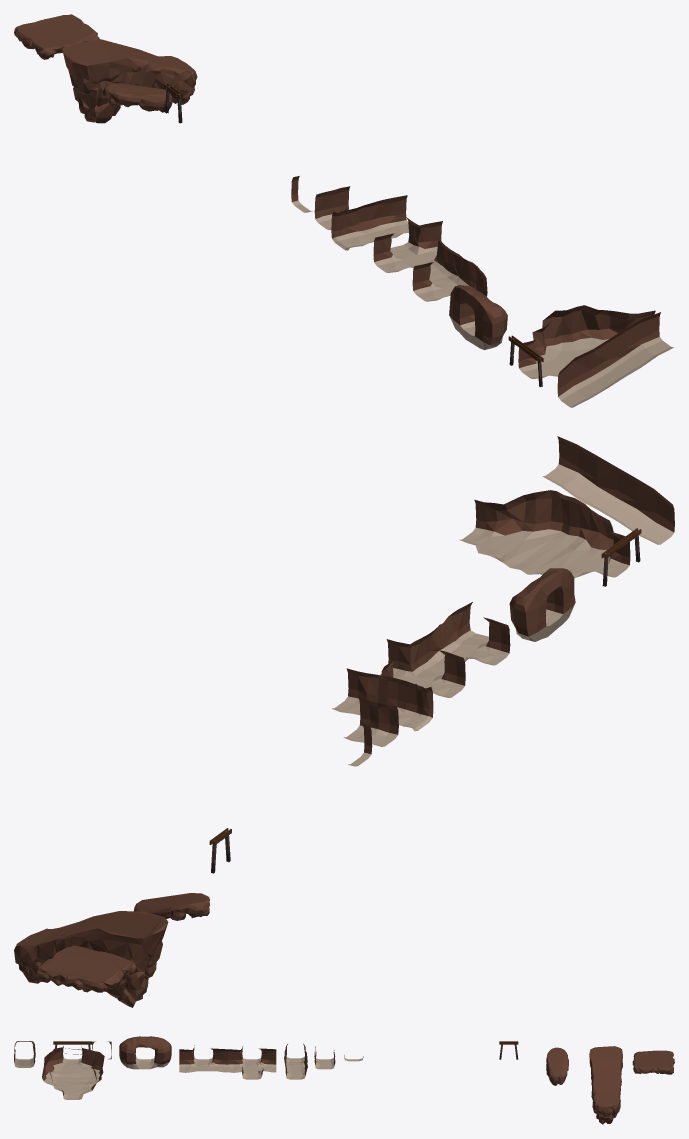
Rendered from MinesCaves_raw.glb.
3 renders of one model, top to bottom at view 1: azimuth 30°, elevation 25°; view 2: azimuth 150°, elevation 25°; view 3: azimuth 270°, elevation 25°, orthographic. The views are drawn at different scales.
Parts seen in each view (by area): view 1: RampaGrande, CorredorCumprido, HallGrande, HallX, Portal, CorredorMedio, Plataforma, HallT, RampaPequena, CorredorCurto; view 2: HallGrande, RampaGrande, CorredorCumprido, Portal, HallT, Plataforma, HallX, CorredorMedio, CorredorCurto, RampaPequena; view 3: HallGrande, RampaGrande, Portal, HallX, HallT, Plataforma, RampaPequena, CorredorMedio, CorredorCumprido, CorredorCurto, Cube.027.
Part boxes in pixels (x1,y1,x2,y2): RampaGrande: (62, 39, 197, 123); CorredorCumprido: (557, 312, 673, 407); HallGrande: (518, 305, 655, 378); HallX: (373, 217, 448, 276); Portal: (449, 285, 507, 349); CorredorMedio: (340, 195, 408, 246); Plataforma: (14, 14, 99, 59); HallT: (412, 246, 487, 301); RampaPequena: (102, 83, 172, 112); CorredorCurto: (314, 186, 350, 229); HallGrande: (459, 490, 630, 578); RampaGrande: (14, 911, 168, 1007); CorredorCumprido: (542, 436, 674, 544); Portal: (509, 568, 575, 641); HallT: (425, 602, 510, 668); Plataforma: (36, 945, 135, 992); HallX: (380, 634, 465, 697); CorredorMedio: (332, 668, 423, 727); CorredorCurto: (343, 697, 398, 746); RampaPequena: (134, 893, 209, 920); HallGrande: (42, 1046, 104, 1099); RampaGrande: (589, 1046, 622, 1124); Portal: (119, 1036, 171, 1069); HallX: (227, 1046, 276, 1079); HallT: (179, 1045, 227, 1072); Plataforma: (632, 1050, 674, 1074); RampaPequena: (546, 1047, 568, 1085); CorredorMedio: (284, 1048, 307, 1079); CorredorCumprido: (14, 1041, 35, 1067); CorredorCurto: (314, 1046, 335, 1069); Cube.027: (53, 1041, 91, 1049).
Bounding box in the file's own units: 24.6 × 18.11 × 136.
3 materials, 1 textured.
